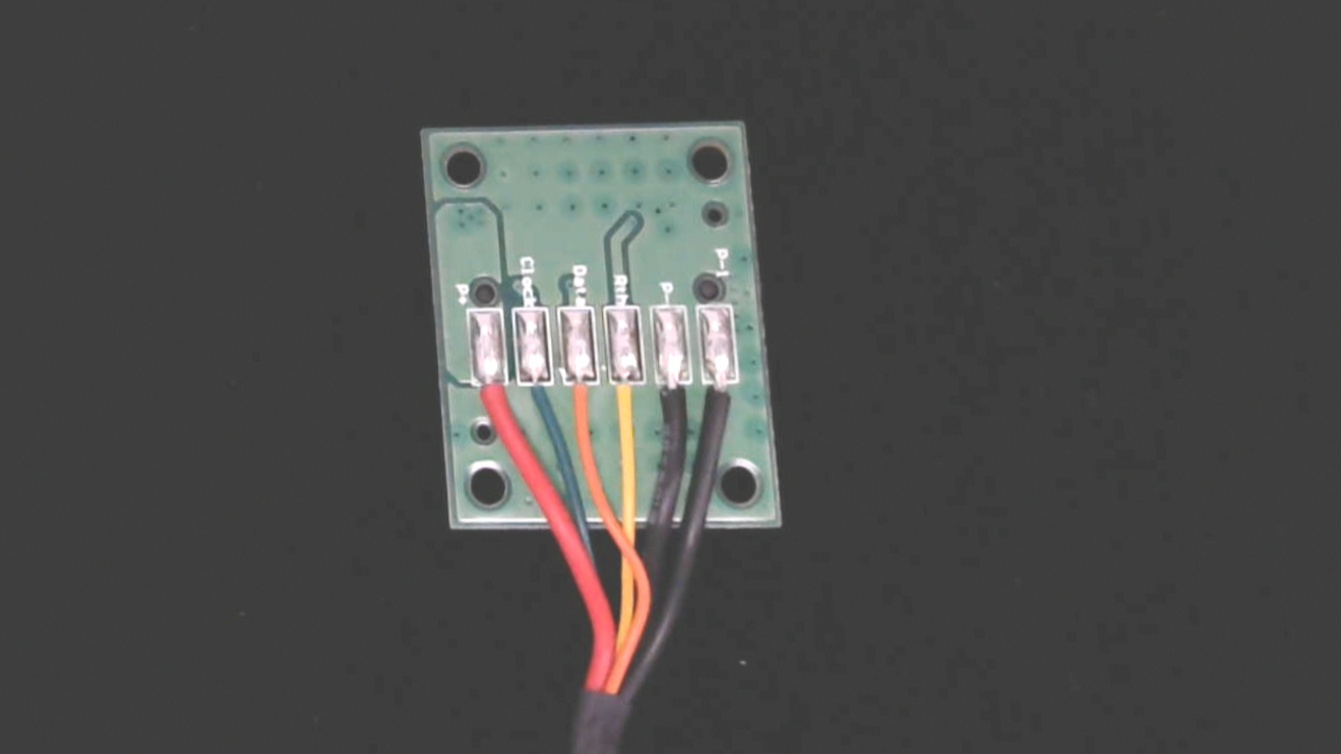Black: (655, 363, 693, 432)
Black1: (702, 363, 740, 442)
Green: (516, 359, 556, 435)
Orange: (561, 361, 600, 443)
Red: (471, 359, 510, 429)
Yellow: (609, 360, 646, 441)
